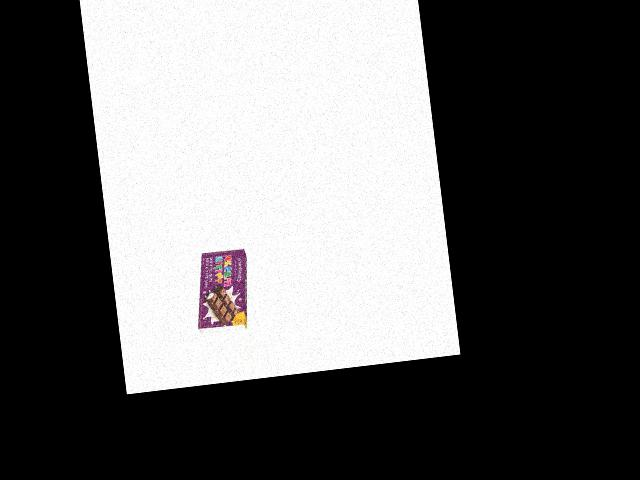chocolate: (192, 242, 255, 335)
